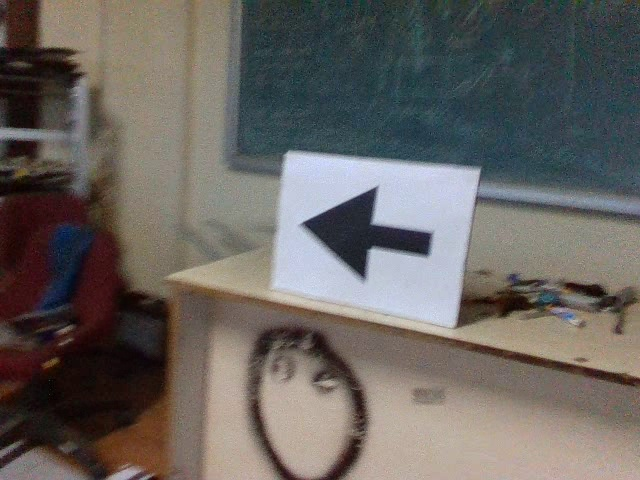Left: (297, 179, 440, 289)
